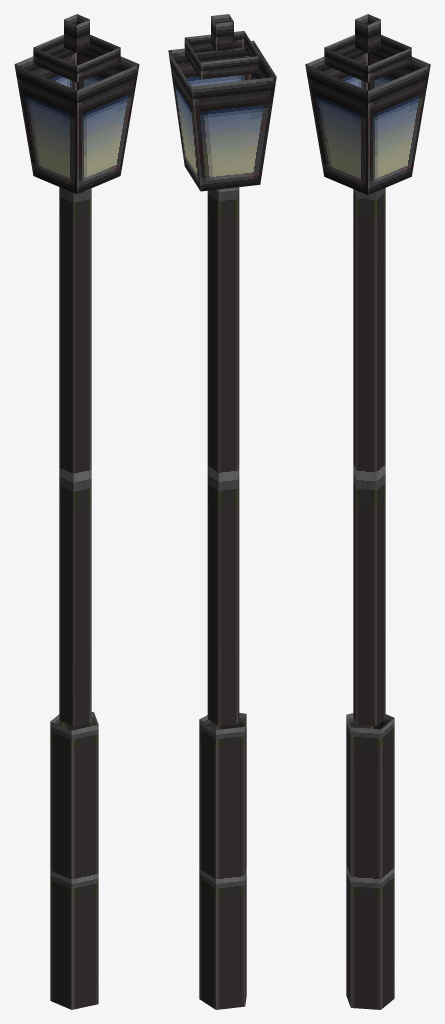
Rendered from lamp.obj.
3 views of the same model, side by side, from view 1: azimuth 90°, elevation 25°; view 2: azimuth 150°, elevation 25°; view 3: azimuth 270°, elevation 25° (orthographic).
Parts seen in each view (by area): view 1: LampPole_01_0_0_node_LampPole_01_0_0; view 2: LampPole_01_0_0_node_LampPole_01_0_0; view 3: LampPole_01_0_0_node_LampPole_01_0_0.
Part boxes in pixels (x1,y1,x2,y2): LampPole_01_0_0_node_LampPole_01_0_0: (14, 14, 139, 1009); LampPole_01_0_0_node_LampPole_01_0_0: (168, 14, 276, 1009); LampPole_01_0_0_node_LampPole_01_0_0: (305, 14, 430, 1009).
Bounding box in the file's own units: 4.05 × 35 × 4.05.
Materials: 1 (1 with a texture image).
